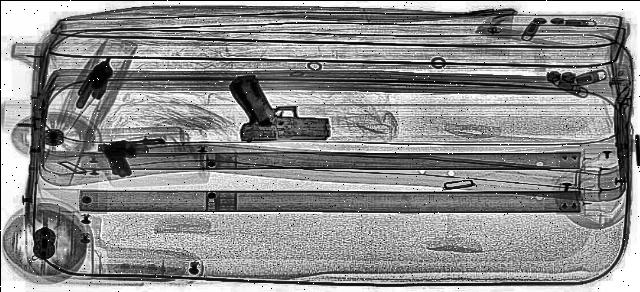Gun: (206, 70, 340, 148), (47, 62, 137, 112), (98, 136, 176, 178)
